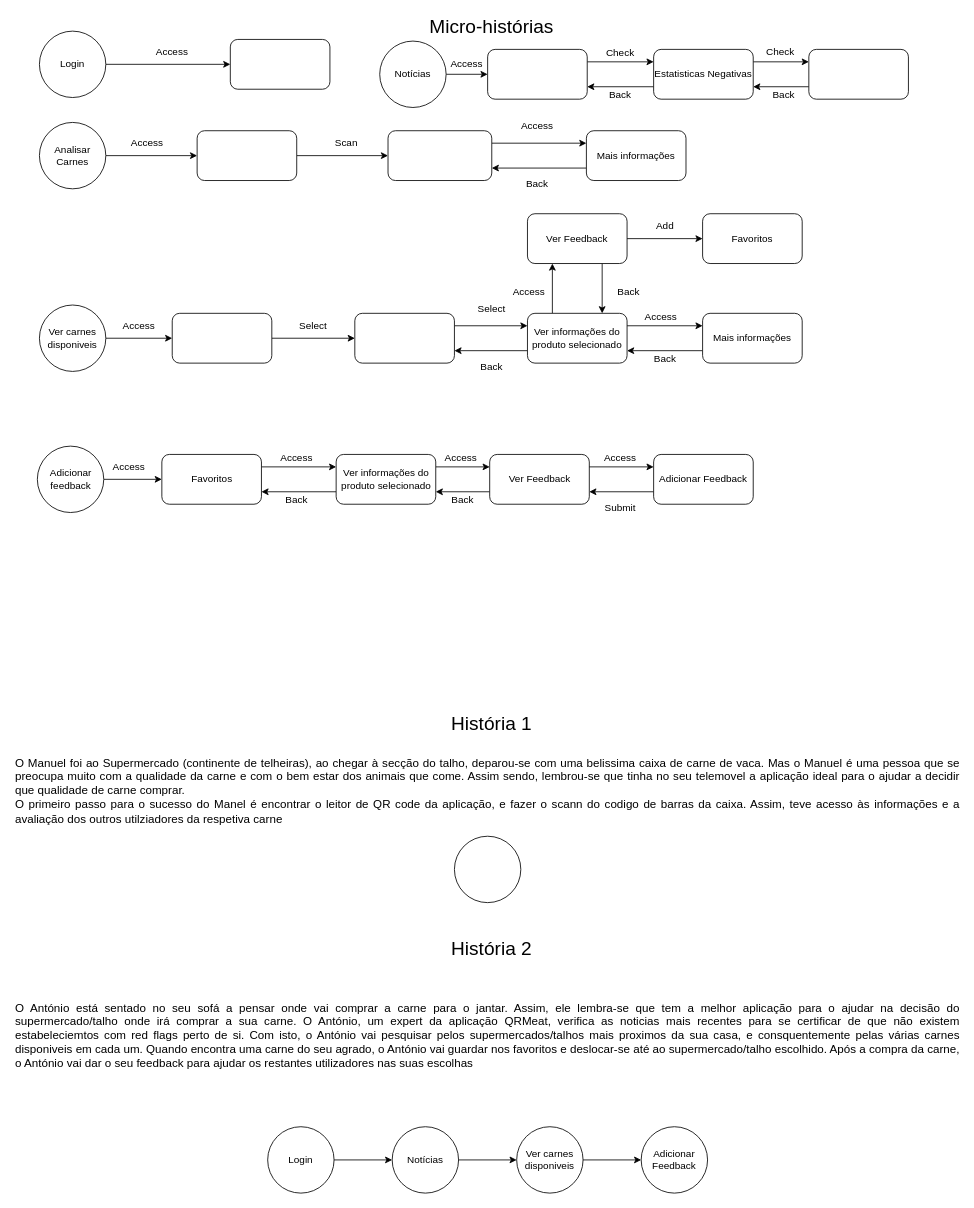
Image size: 974x1208. Some labels were removed from this diagram. The shapes that lost their labels are listed below. From the top down, each one's centre as x and y in pixels, then its label:
At (279,64): "Login/Sign in".
At (537,74): "Trendings".
At (858,74): "Estatísticas Positivas".
At (246,155): "Leitor QR Code".
At (439,155): "Informações do Produto lido".
At (221,337): "Home page".
At (404,337): "Ver categorias disponiveis no supermercado selecionado".
At (487,869): "Analizar carnes".
